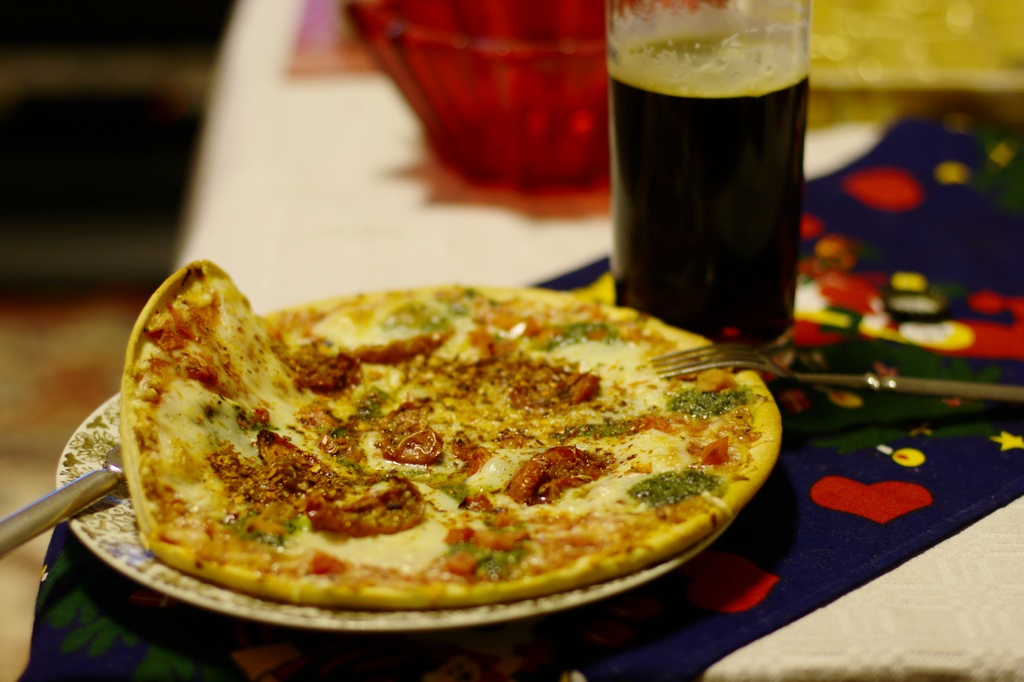Pizza: (105, 265, 778, 612)
